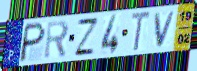4: (100, 13, 121, 56)
P: (18, 21, 48, 64)
R: (43, 19, 71, 61)
T: (130, 10, 152, 54)
V: (153, 10, 178, 49)
Z: (73, 17, 101, 57)
